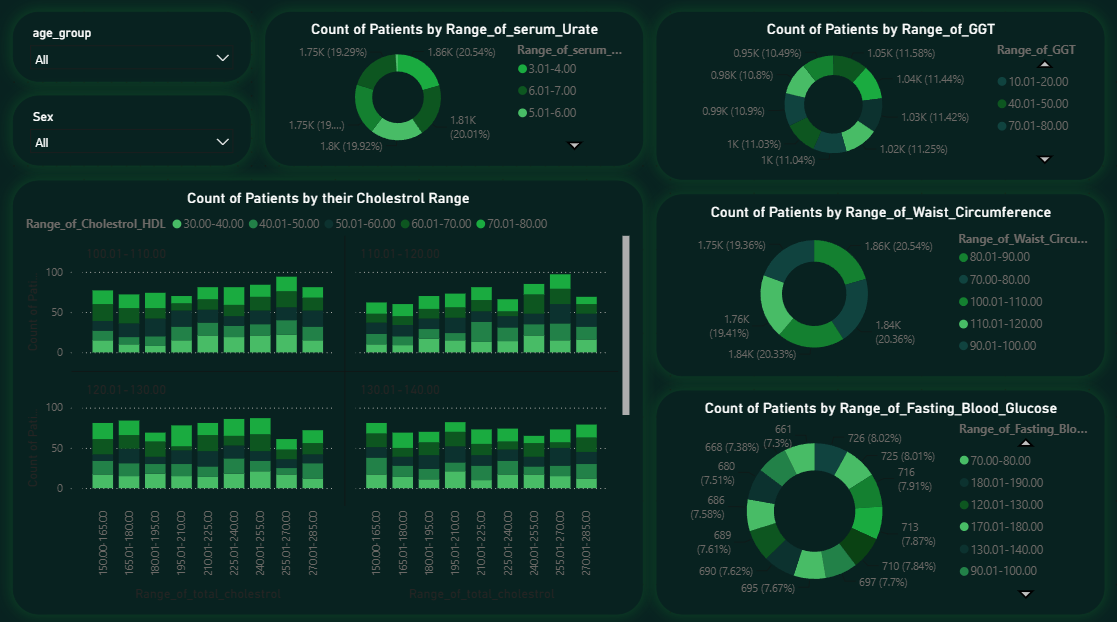

Layout of this report page (visuals, bound fields, positions):
{"tool":"powerbi","page":{"name":"Page 2","canvas":[1280,720],"ordinal":1},"visuals":[{"type":"columnChart","title":"Count of Patients by their Cholestrol Range","fields":{"Y":["CountNonNull(diabetes_dataset.Age)"],"Category":["diabetes_dataset.Range_of_total_cholestrol"],"Series":["diabetes_dataset.Range_of_Cholestrol_HDL"],"Rows":["diabetes_dataset.Range_of_Cholestrol_LDL"]},"box":[16,208,720,496],"z":0},{"type":"donutChart","fields":{"Y":["CountNonNull(diabetes_dataset.Age)"],"Category":["diabetes_dataset.Range_of_Fasting_Blood_Glucose"]},"box":[752,448,512,256],"z":1000},{"type":"donutChart","fields":{"Y":["CountNonNull(diabetes_dataset.Age)"],"Category":["diabetes_dataset.Range_of_Waist_Circumference"]},"box":[752,224,512,208],"z":2000},{"type":"slicer","fields":{"Values":["diabetes_dataset.age_group"]},"box":[16,16,272,80],"z":3000},{"type":"slicer","fields":{"Values":["diabetes_dataset.Sex"]},"box":[16,112,272,80],"z":4000},{"type":"donutChart","fields":{"Y":["CountNonNull(diabetes_dataset.Age)"],"Category":["diabetes_dataset.Range_of_serum_Urate"]},"box":[304,16,432,176],"z":5000},{"type":"donutChart","fields":{"Y":["CountNonNull(diabetes_dataset.Age)"],"Category":["diabetes_dataset.Range_of_GGT"]},"box":[752,16,512,192],"z":6000}]}

Visuals, with their boxes in screenshot pixels (x1, y1, x2, y2), scaled from the page's 1280x720 canvas onto the 1117x622 screenshot:
"Count of Patients by their Cholestrol Range" columnChart: <bbox>14, 180, 642, 608</bbox>
donutChart - CountNonNull(diabetes_dataset.Age) x diabetes_dataset.Range_of_Fasting_Blood_Glucose: <bbox>656, 387, 1103, 608</bbox>
donutChart - CountNonNull(diabetes_dataset.Age) x diabetes_dataset.Range_of_Waist_Circumference: <bbox>656, 194, 1103, 373</bbox>
slicer - diabetes_dataset.age_group: <bbox>14, 14, 251, 83</bbox>
slicer - diabetes_dataset.Sex: <bbox>14, 97, 251, 166</bbox>
donutChart - CountNonNull(diabetes_dataset.Age) x diabetes_dataset.Range_of_serum_Urate: <bbox>265, 14, 642, 166</bbox>
donutChart - CountNonNull(diabetes_dataset.Age) x diabetes_dataset.Range_of_GGT: <bbox>656, 14, 1103, 180</bbox>
